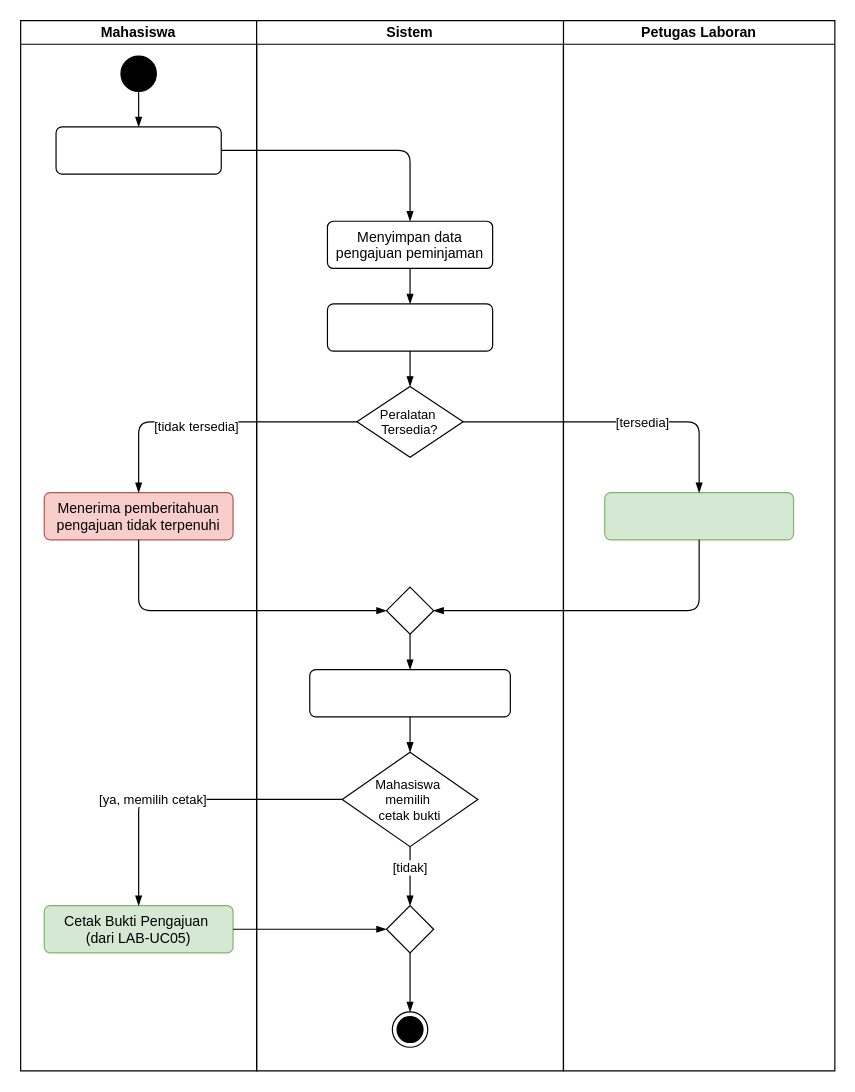
Some shapes in this 855 by 1092 pixel diagram are drawn without their labels. Each missing label, with the centre of its shape:
Memproses keputusan peminjaman: (699,515)
Mencatat hasil akhir pengajuan: (409,692)
Mengisi Formulir Pengajuan Peminjaman: (138,150)
Periksa Ketersediaan (Dari LAB-UC04): (409,327)
